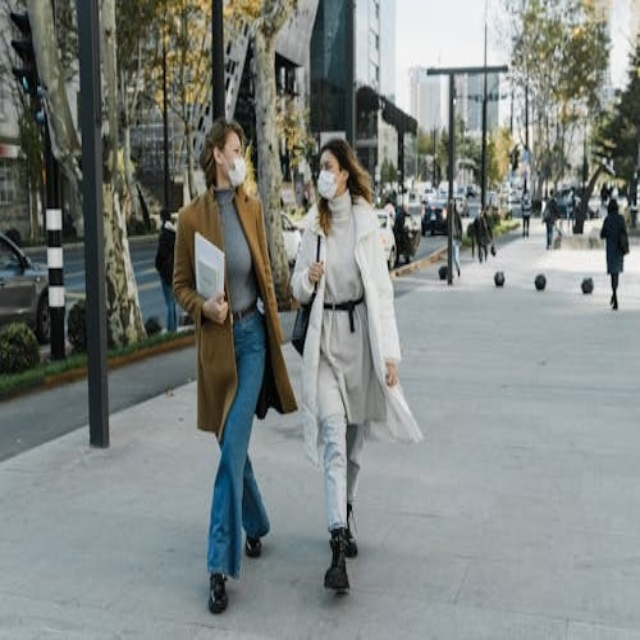Mascara: (225, 154, 247, 187), (317, 169, 340, 200)
Sin_gafas: (223, 140, 244, 155), (319, 161, 337, 172)
Sin_guantes: (206, 294, 229, 324), (306, 257, 328, 287), (381, 360, 399, 389)
